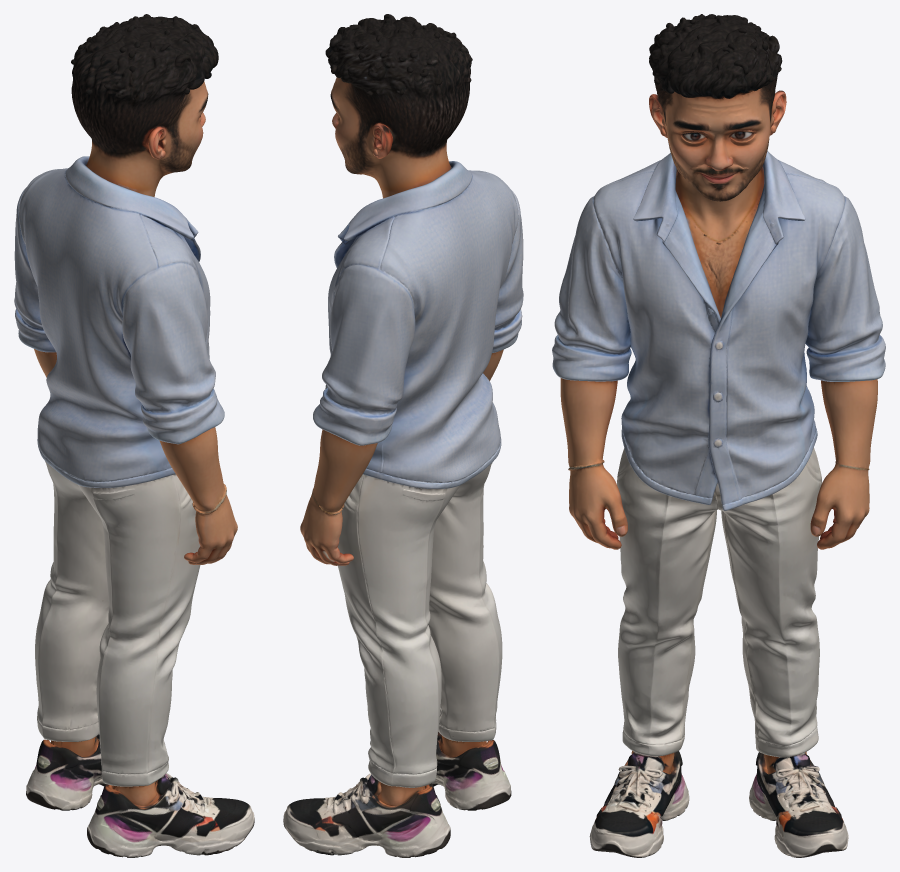
The model's file is musty-tripo-hq.glb.
3 views of the same model, side by side, from view 1: azimuth 30°, elevation 25°; view 2: azimuth 150°, elevation 25°; view 3: azimuth 270°, elevation 25° (orthographic). The views are drawn at different scales.
Parts seen in each view (by area): view 1: tripo_node_8e4f0212-2d78-412d-94e2-58d93b1c84ab; view 2: tripo_node_8e4f0212-2d78-412d-94e2-58d93b1c84ab; view 3: tripo_node_8e4f0212-2d78-412d-94e2-58d93b1c84ab.
Boxes of the visible parts, x1=… form: tripo_node_8e4f0212-2d78-412d-94e2-58d93b1c84ab: x1=14, y1=14, x2=254, y2=857; tripo_node_8e4f0212-2d78-412d-94e2-58d93b1c84ab: x1=283, y1=14, x2=523, y2=857; tripo_node_8e4f0212-2d78-412d-94e2-58d93b1c84ab: x1=552, y1=14, x2=885, y2=857.
Size of the model in its own units: 0.1913 by 0.9798 by 0.3642.
1 material, 1 textured.
